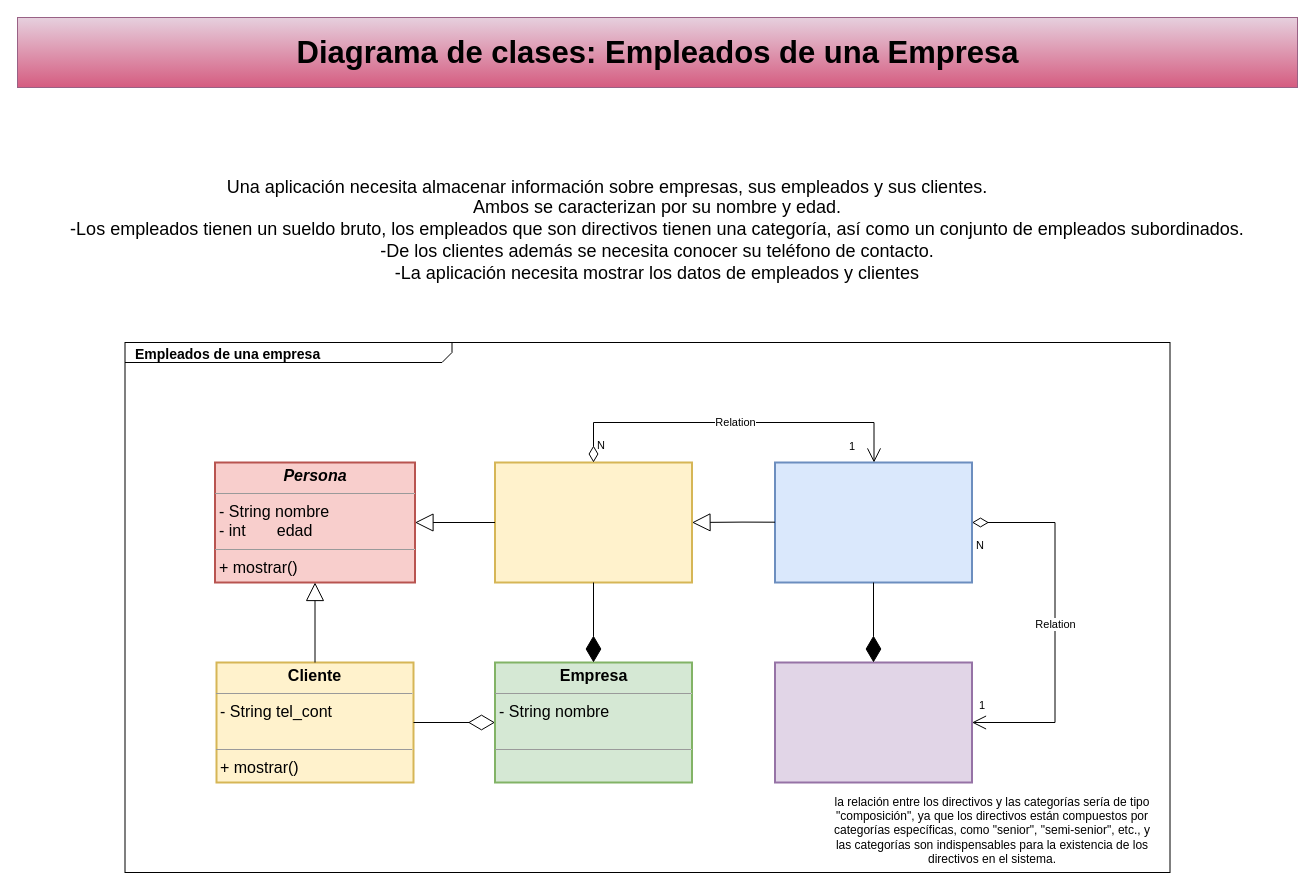
The diagram is 1315 pixels wide and 890 high, and some of its shapes have lost their labels. Here are the shapes that lost their labels. From the top down, the centre of each, then its label:
point (593, 522): Empleado - double sueldoBruto + mostrar()
point (873, 522): Directivo - String categoria + mostrar()
point (873, 722): Categoria - String tipo [ ]
